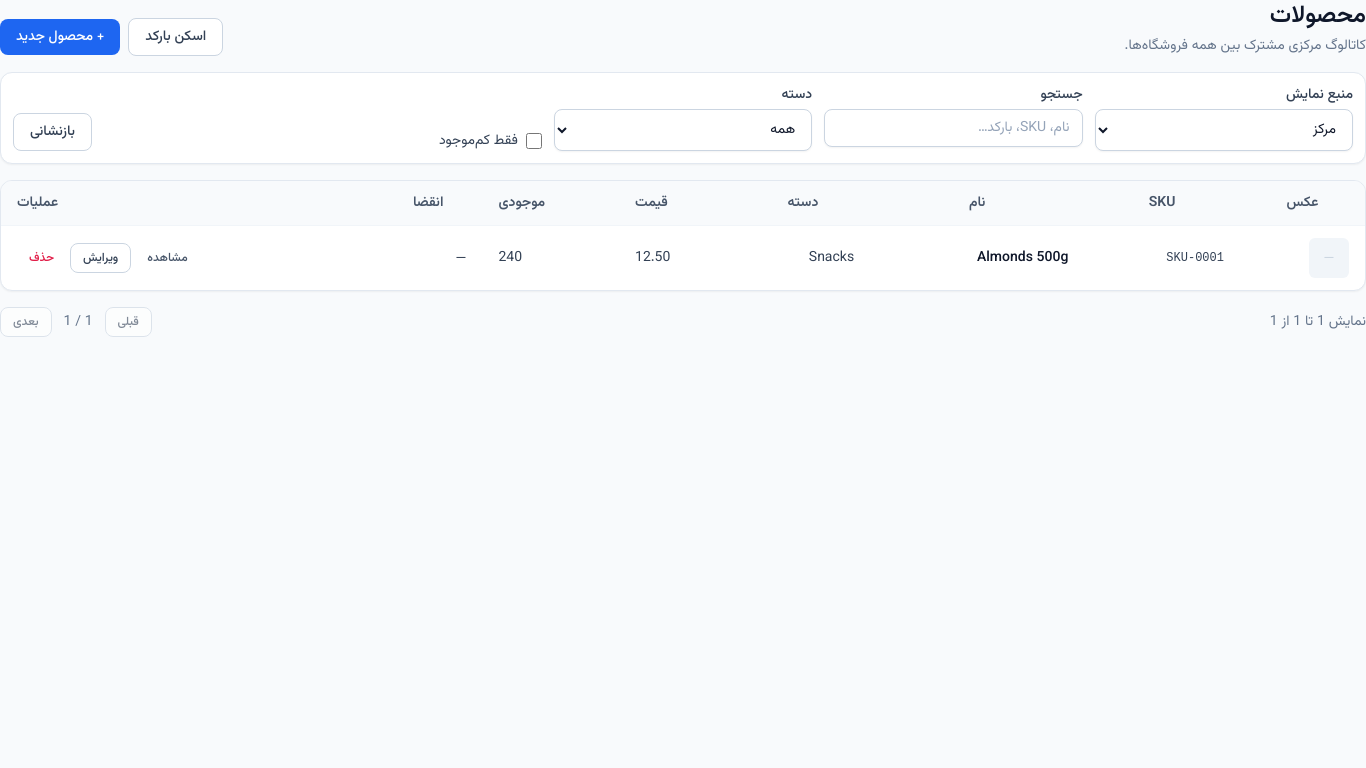
Test case: Products list › opens the edit modal when Edit is clicked
Expected: the link "Almonds 500g" is shown, [977,247,1068,269]
Click the button "ویرایش".
click(101, 258)  # box [70,243,131,273]
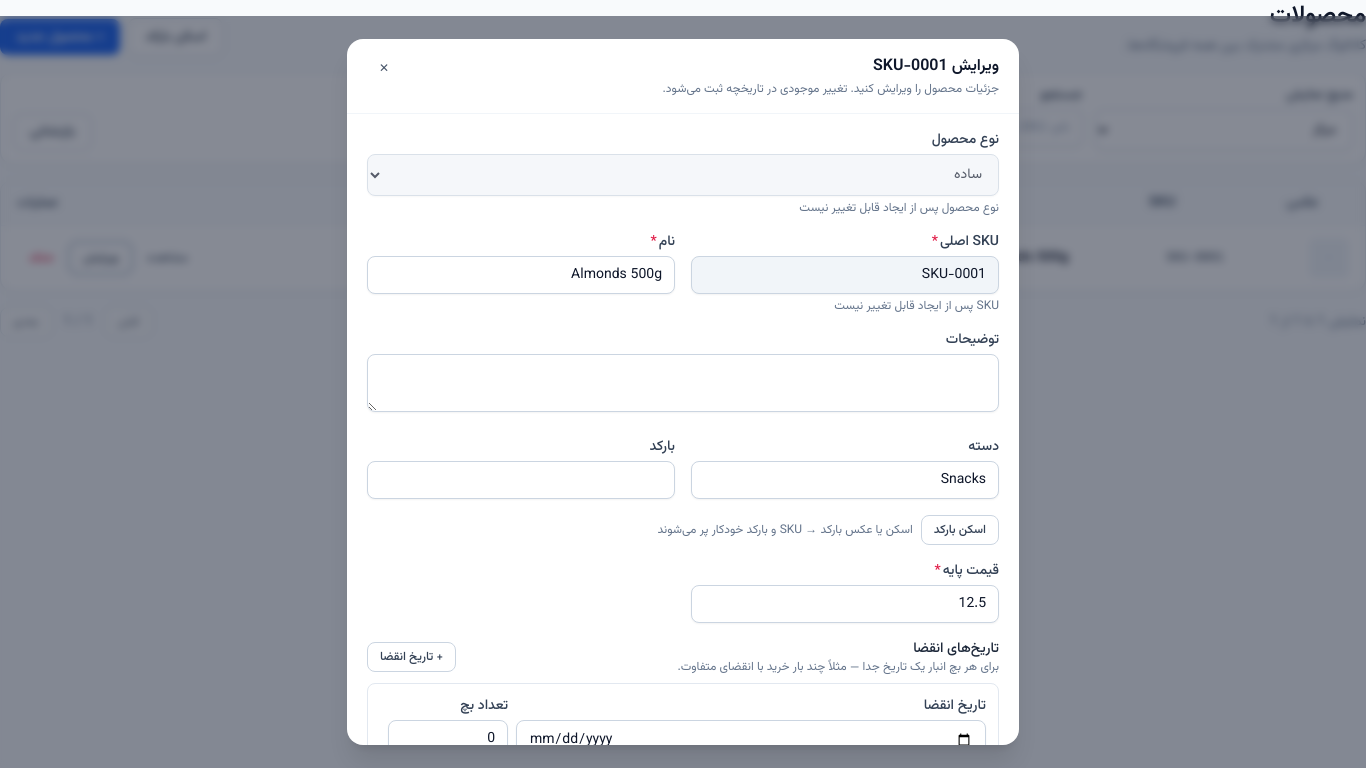
Now the heading "ویرایش SKU-0001" is shown, box [873,54,999,79]
